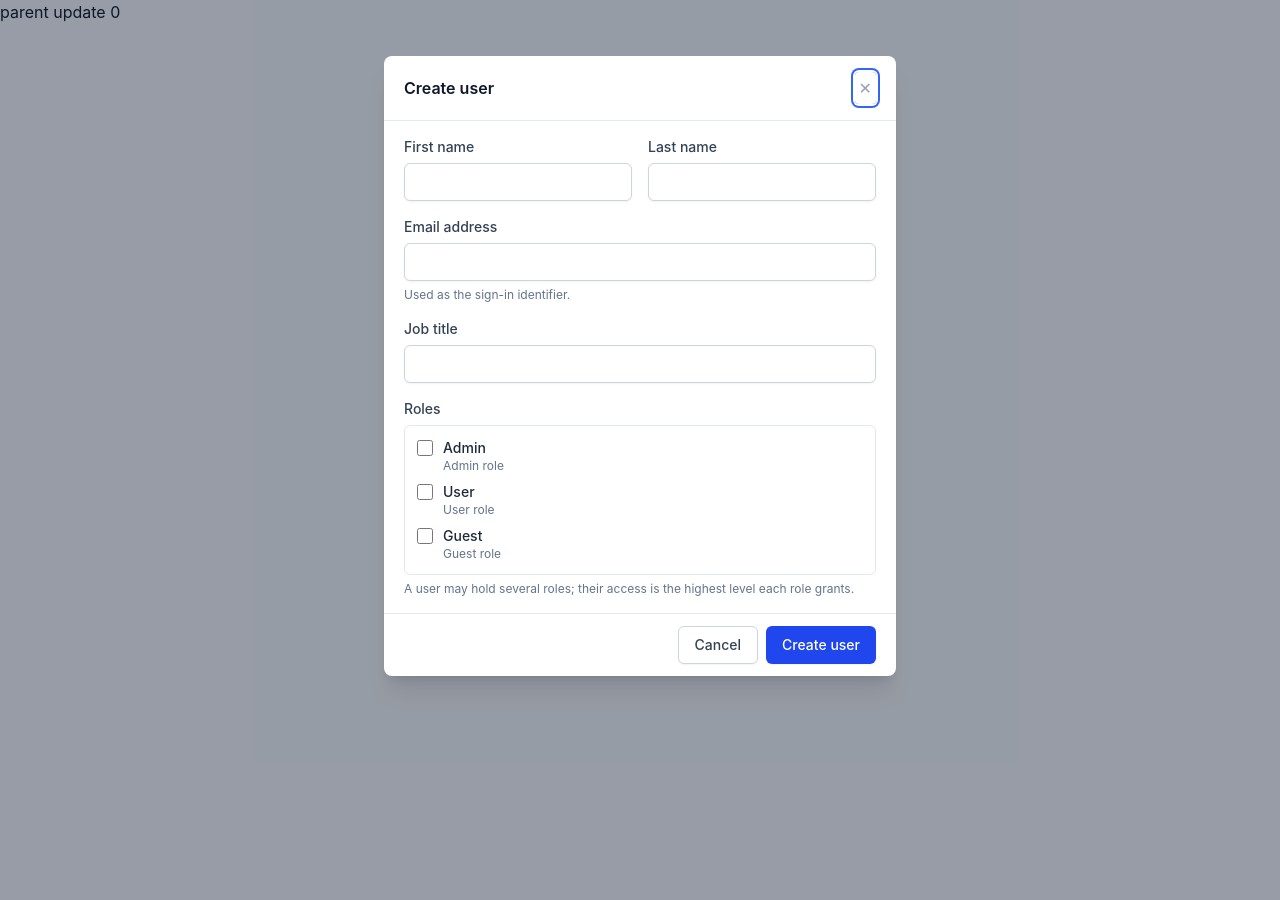
Test: CreateUserDialog › shows the temporary password once and stays open until dismissed
In the field labelled "First name": (518, 182) top-left (404, 163), bottom-right (632, 201), type "Ada"
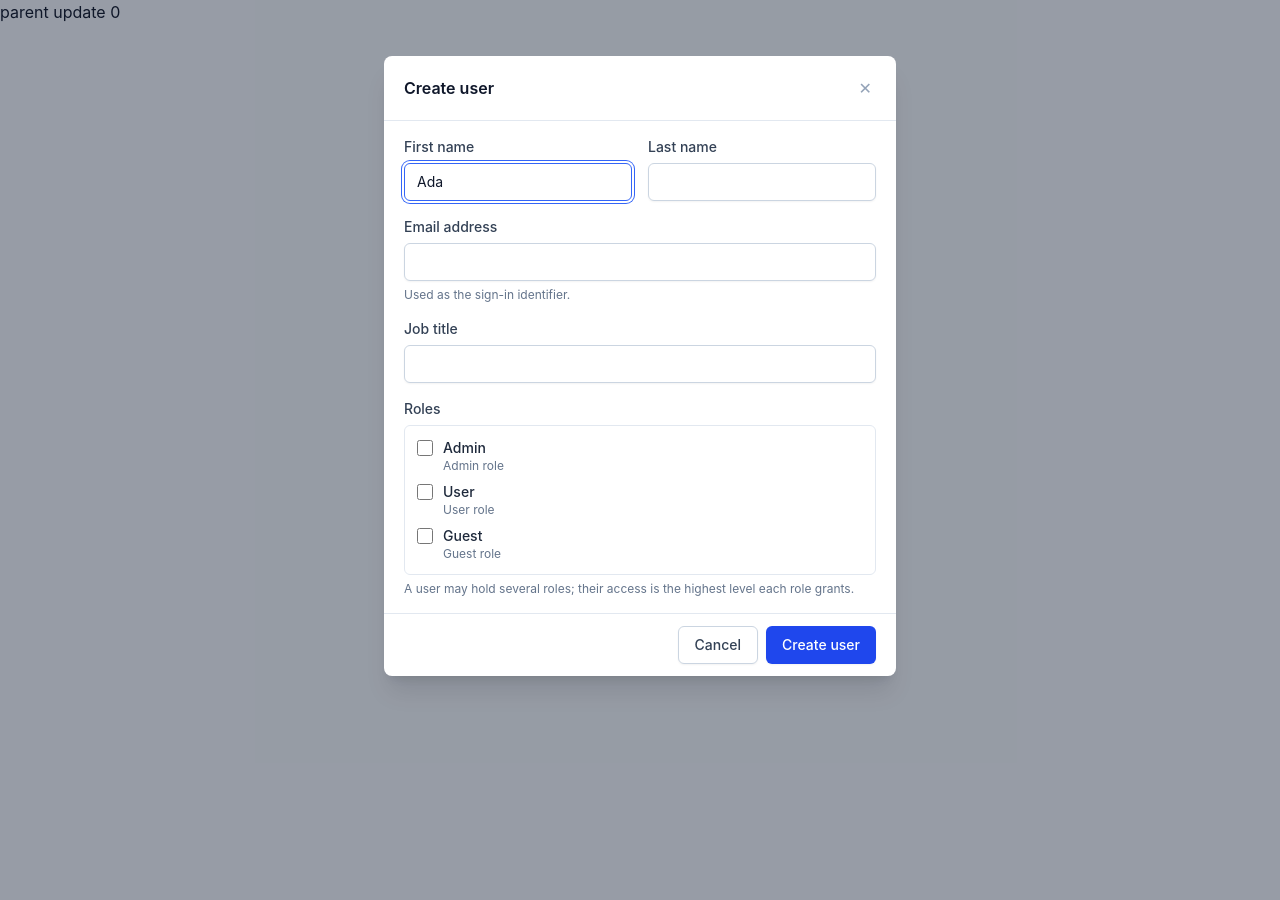
In the field labelled "Last name": (762, 182) top-left (648, 163), bottom-right (876, 201), type "Lovelace"
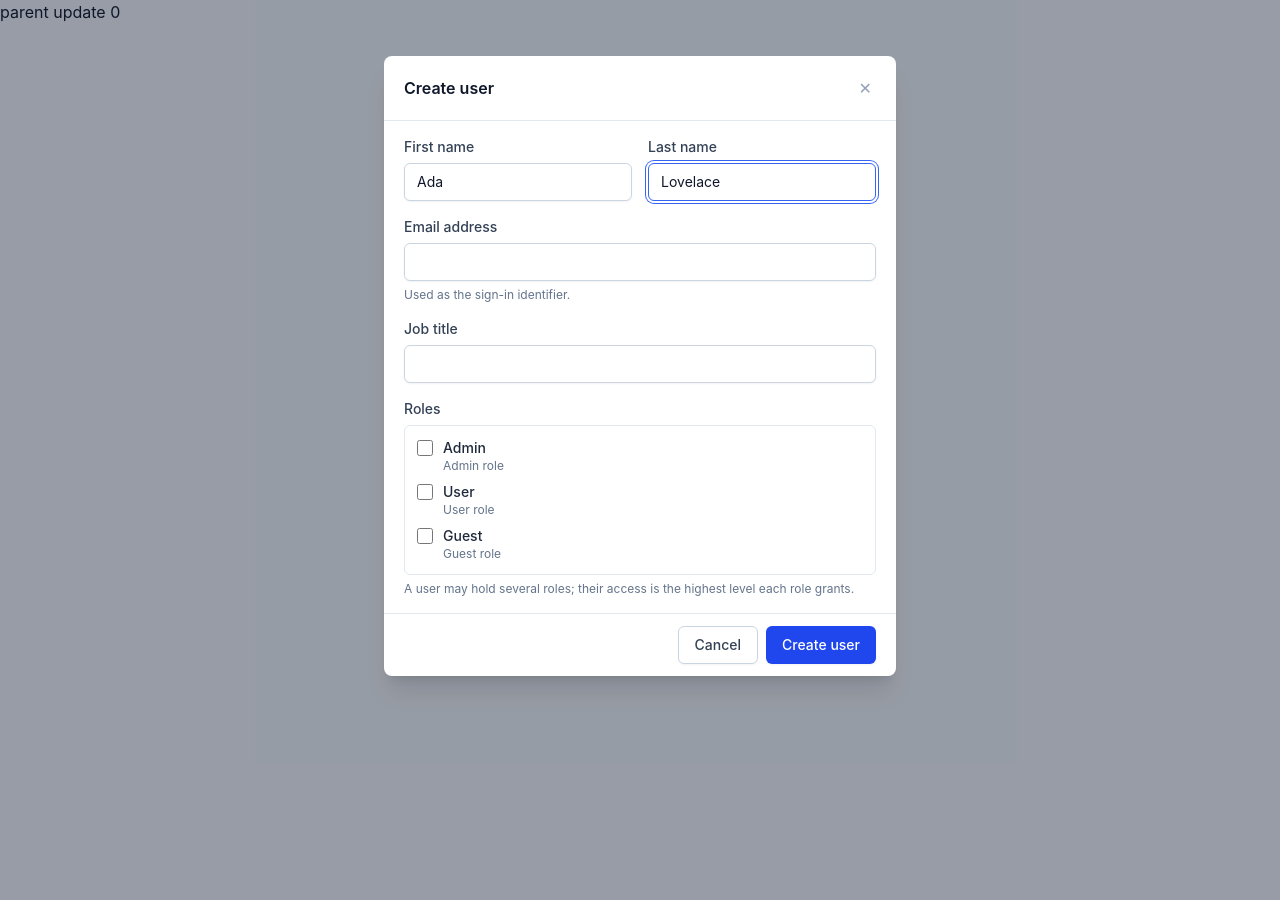
In the field labelled "Email address": (640, 262) top-left (404, 243), bottom-right (876, 281), type "ada@example.internal"
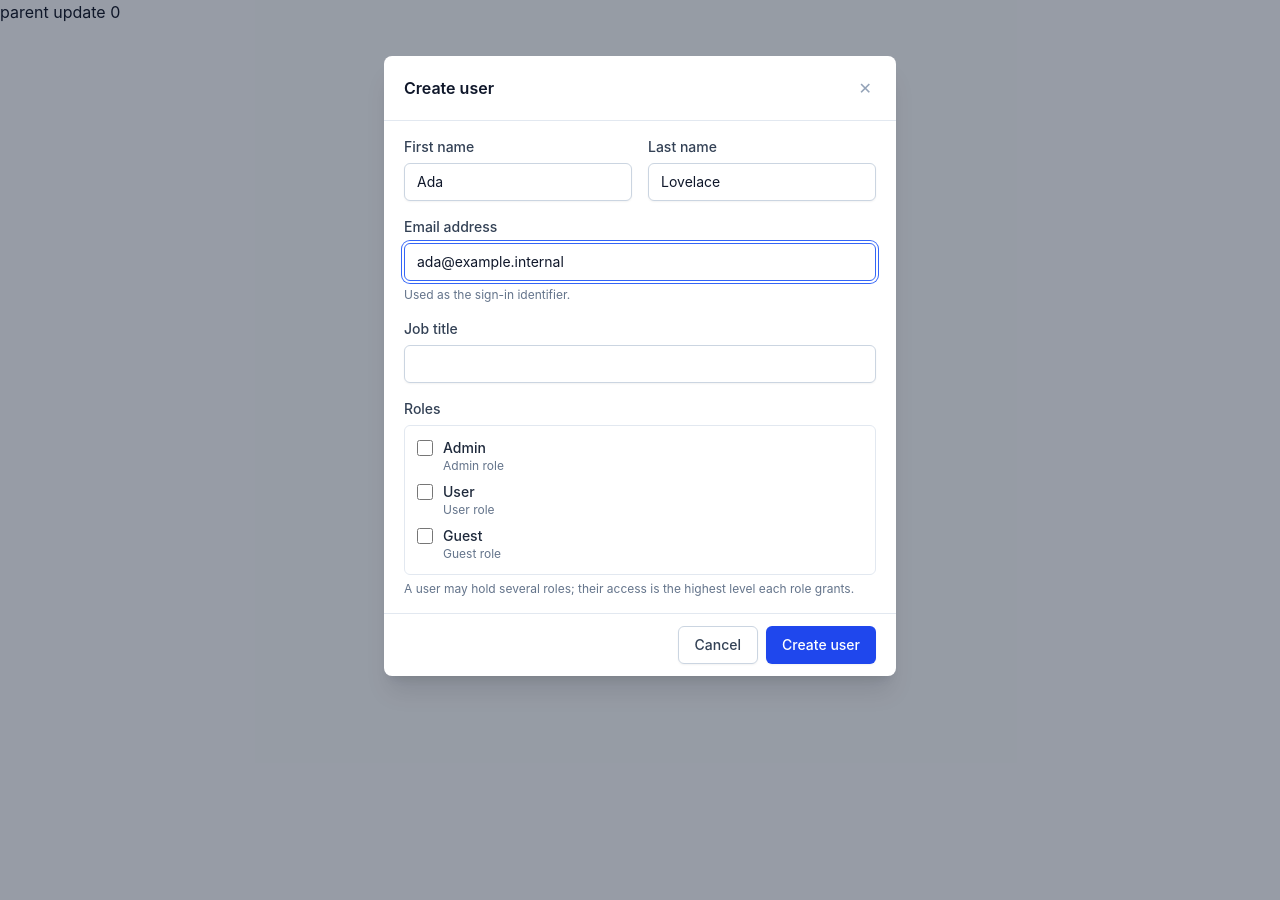
Click the button "Create user": click(821, 645) top-left (766, 626), bottom-right (876, 664)
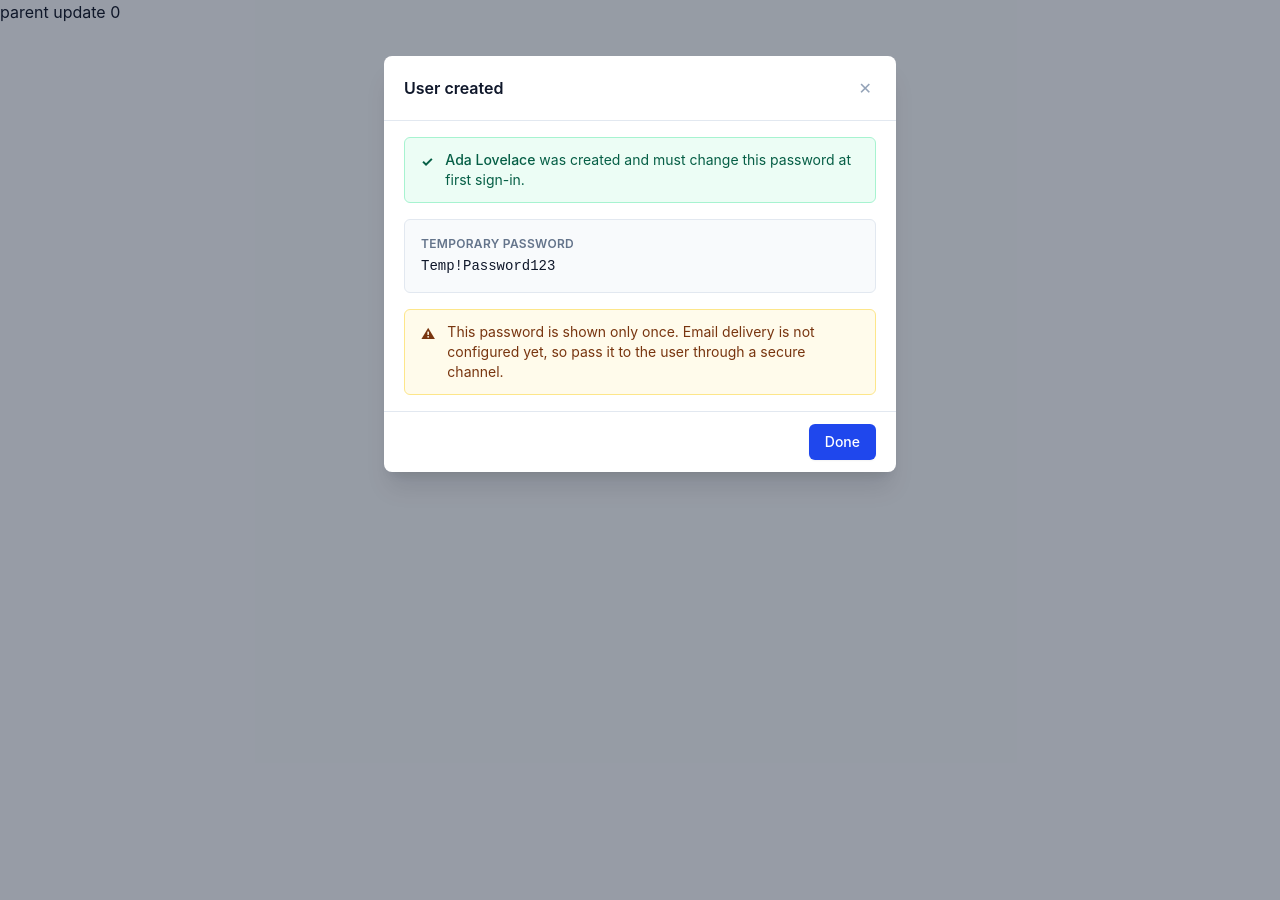
Expected: the dialog is shown, top-left (384, 56), bottom-right (896, 472)
Now the text "Temp!Password123" is shown, box top-left (421, 258), bottom-right (555, 274)
